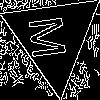M: (28, 13, 75, 61)
